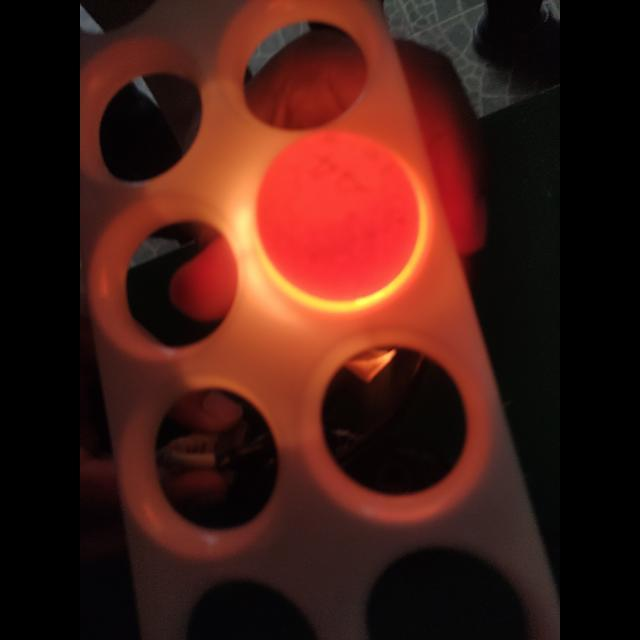Infertile: (253, 127, 424, 311)
